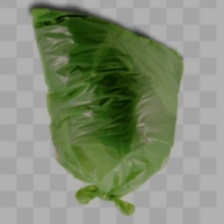plastic_bag: (18, 2, 191, 216)
